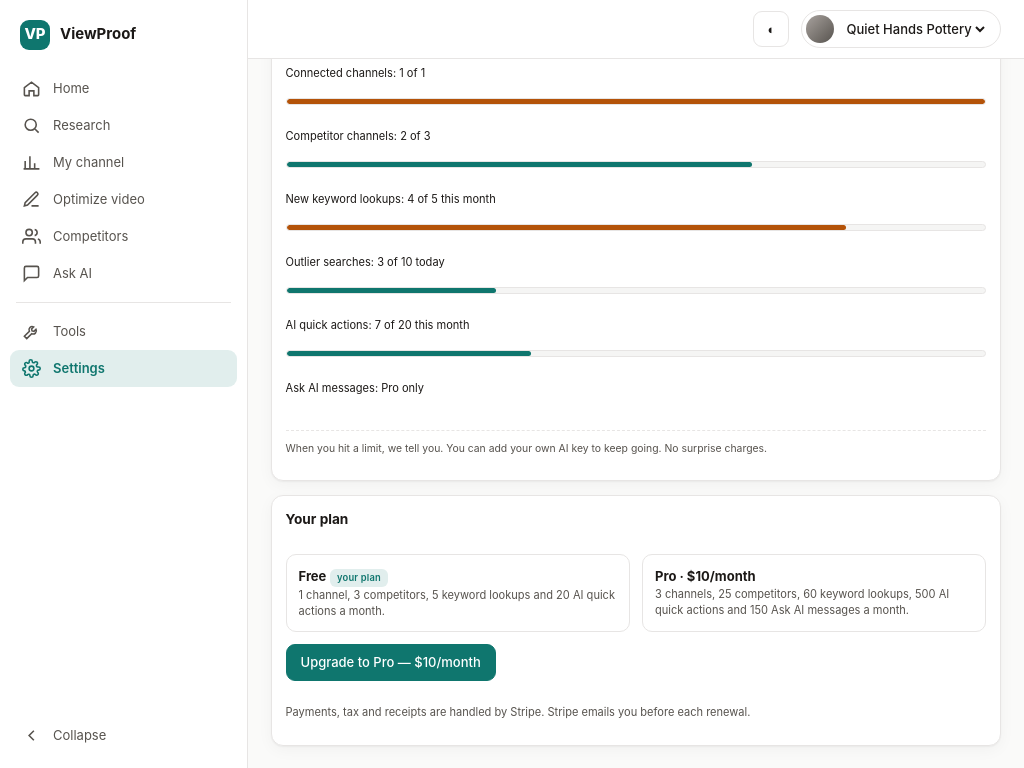
it: Settings → Plan & usage › a server error on upgrade shows its message
(page scrolled)
Click the button "Upgrade to Pro — $10/month": (391, 662) [286,644,496,680]
(page scrolled)
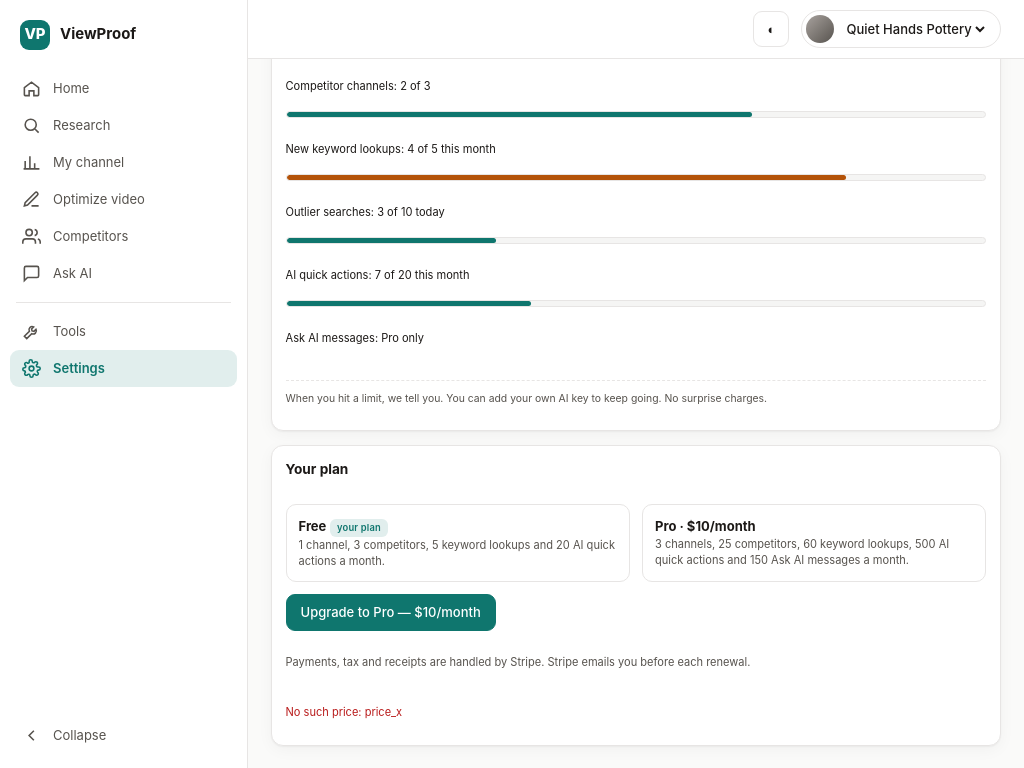
Check: the text "No such price: price_x" is shown, box [286,705,402,719]
